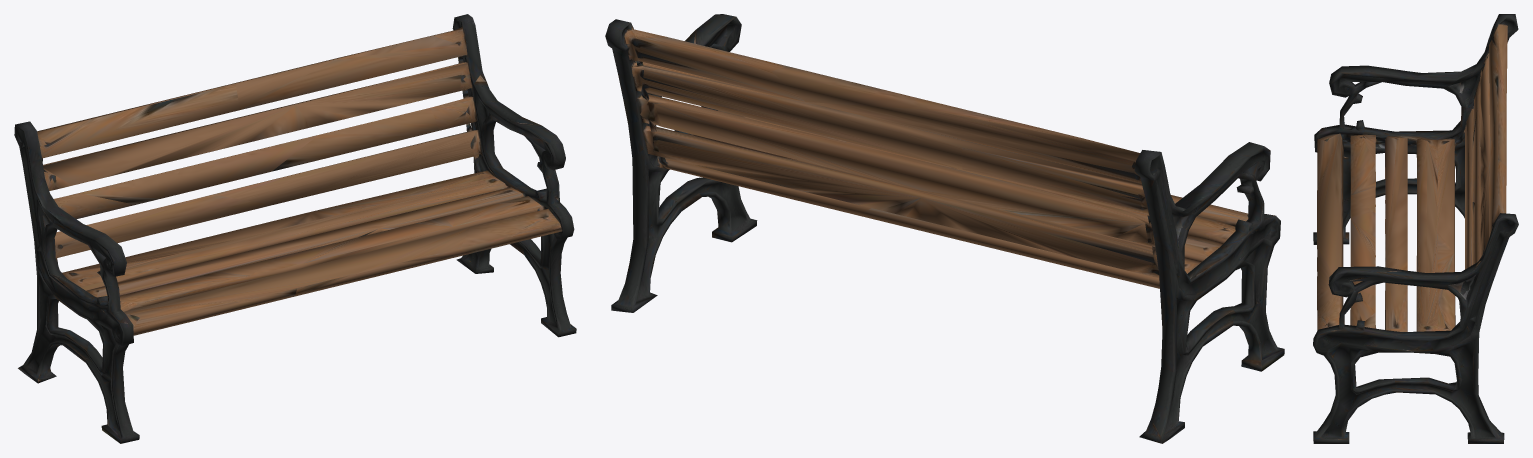
Rendered from env_bench.glb.
3 views of the same model, side by side, from view 1: azimuth 30°, elevation 25°; view 2: azimuth 150°, elevation 25°; view 3: azimuth 270°, elevation 25° (orthographic). The views are drawn at different scales.
Visible parts, largest first — view 1: Mesh_0; view 2: Mesh_0; view 3: Mesh_0.
Part boxes in pixels (x1,y1,x2,y2): Mesh_0: [14, 14, 576, 443]; Mesh_0: [605, 14, 1284, 443]; Mesh_0: [1313, 14, 1518, 443].
Bounding box in the file's own units: 1.5 × 0.7634 × 0.6284.
Materials: 1 (1 with a texture image).
